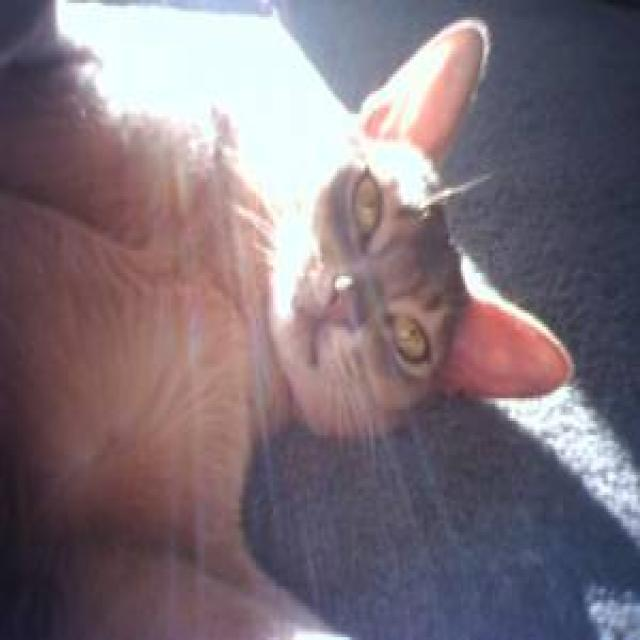Abyssinian: (263, 12, 570, 430)
